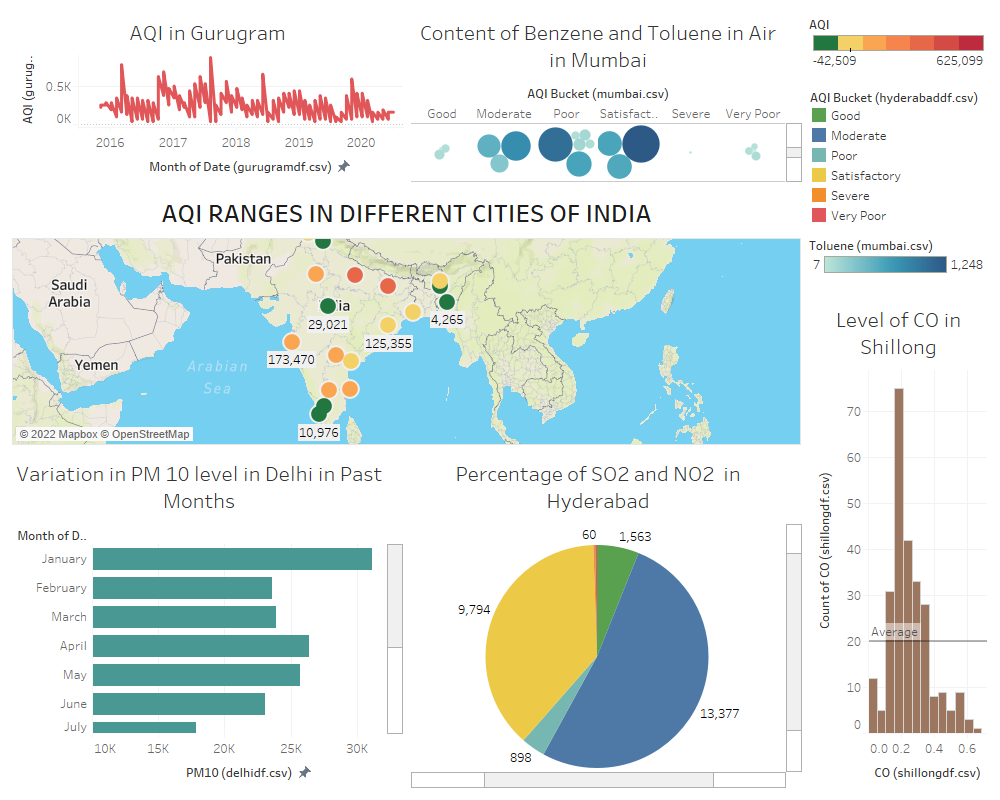

The dashboard page shown, as its layout file describes it:
{"tool":"tableau","page":{"name":"Dashboard 1","canvas":[1000,800],"ordinal":0},"visuals":[{"type":"worksheet","title":"Sheet 4","mark":"Line","rows":["AQI (gurugramdf.csv) (bin)"],"cols":["Date (gurugramdf.csv)"],"box":[8,8,398.5,178]},{"type":"worksheet","title":"Sheet 5","mark":"Circle","cols":["AQI_Bucket (mumbai.csv)"],"box":[406.5,8,398.5,178]},{"type":"legend","title":"Sheet 1","param":"[federated.0202zhe1puvcth1fp88s11xdtfq2].[sum:AQI:qk]","box":[805,8,187,75]},{"type":"legend","title":"Sheet 3","param":"[federated.0202zhe1puvcth1fp88s11xdtfq2].[none:AQI_Bucket (hyderabaddf.csv):nk]","box":[805,83,187,146]},{"type":"worksheet","title":"Sheet 1","mark":"Automatic","box":[8,186,797,263]},{"type":"legend","title":"Sheet 5","param":"[federated.0202zhe1puvcth1fp88s11xdtfq2].[sum:Toluene (mumbai.csv):qk]","box":[805,229,187,65]},{"type":"worksheet","title":"Sheet 6","mark":"Automatic","rows":["CO (shillongdf.csv)"],"cols":["CO (shillongdf.csv) (bin)"],"box":[805,294,187,498]},{"type":"worksheet","title":"Sheet 2","mark":"Bar","rows":["Date (delhidf.csv)"],"cols":["PM10 (delhidf.csv)"],"box":[8,449,398.5,343]},{"type":"worksheet","title":"Sheet 3","mark":"Pie","box":[406.5,449,398.5,343]}]}

Visuals, with their boxes in screenshot pixels (x1, y1, x2, y2), scaled from the page's 1000x800 canvas onto the 1000x800 screenshot:
"Sheet 4" worksheet (Line marks): BBox(8, 8, 406, 186)
"Sheet 5" worksheet (Circle marks): BBox(406, 8, 805, 186)
"Sheet 1" legend: BBox(805, 8, 992, 83)
"Sheet 3" legend: BBox(805, 83, 992, 229)
"Sheet 1" worksheet: BBox(8, 186, 805, 449)
"Sheet 5" legend: BBox(805, 229, 992, 294)
"Sheet 6" worksheet: BBox(805, 294, 992, 792)
"Sheet 2" worksheet (Bar marks): BBox(8, 449, 406, 792)
"Sheet 3" worksheet (Pie marks): BBox(406, 449, 805, 792)
